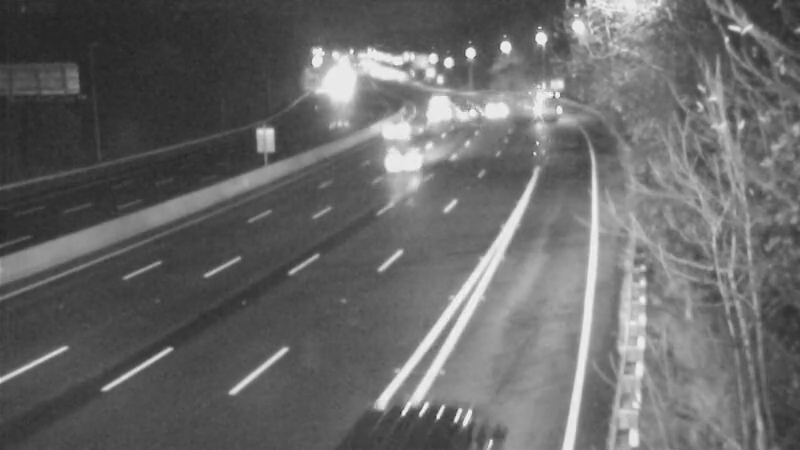vehicle: (354, 356, 464, 450), (369, 123, 449, 203), (407, 89, 457, 139), (516, 74, 566, 124), (411, 72, 461, 122), (462, 91, 512, 141), (443, 88, 493, 138), (363, 108, 413, 158)
